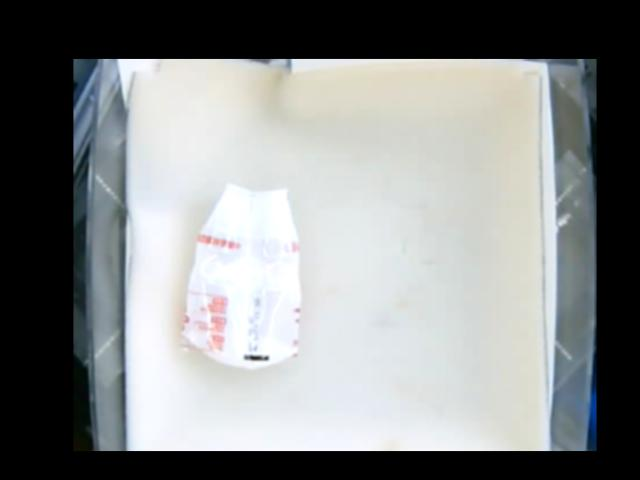Bottle: (179, 183, 305, 371)
